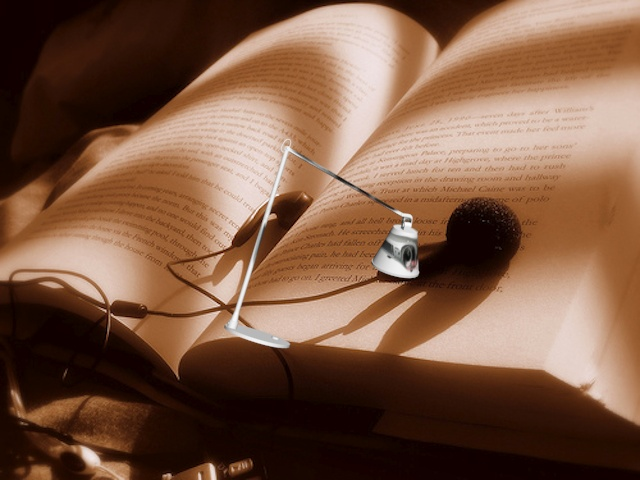desk_lamp: (225, 137, 433, 352)
